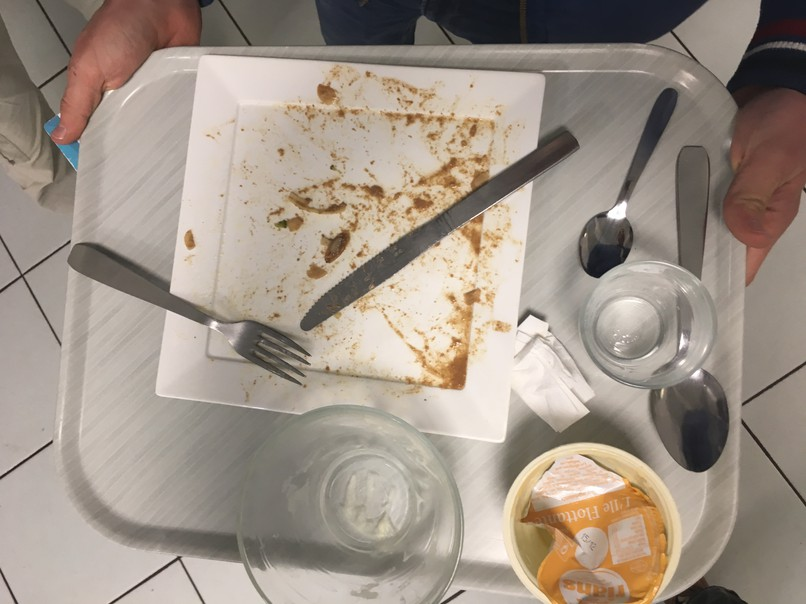cup: (585, 250, 718, 398)
cutlery: (294, 129, 585, 340), (62, 239, 318, 387), (665, 141, 737, 492), (568, 85, 681, 278)
trash: (512, 439, 682, 604), (512, 308, 591, 429)
